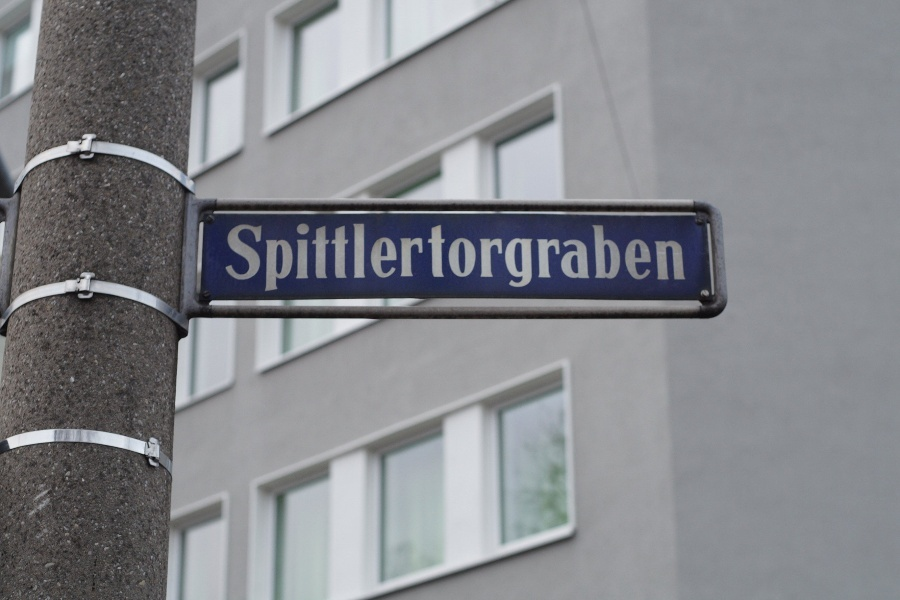text: (241, 224, 256, 294), (257, 224, 272, 294), (273, 224, 288, 294), (289, 224, 304, 294), (305, 224, 320, 294), (321, 224, 336, 294), (337, 224, 352, 294), (353, 224, 368, 294), (369, 224, 384, 294), (385, 224, 400, 294), (401, 224, 416, 294), (417, 224, 432, 294), (433, 224, 448, 294), (449, 224, 464, 294), (465, 224, 480, 294), (481, 224, 496, 294), (497, 224, 512, 294), (513, 224, 528, 294), (529, 224, 544, 294), (545, 224, 560, 294), (561, 224, 576, 294), (577, 224, 592, 294), (593, 224, 608, 294), (609, 224, 624, 294), (625, 224, 640, 294), (641, 224, 656, 294), (657, 224, 672, 294), (673, 224, 687, 294), (227, 224, 240, 294)
